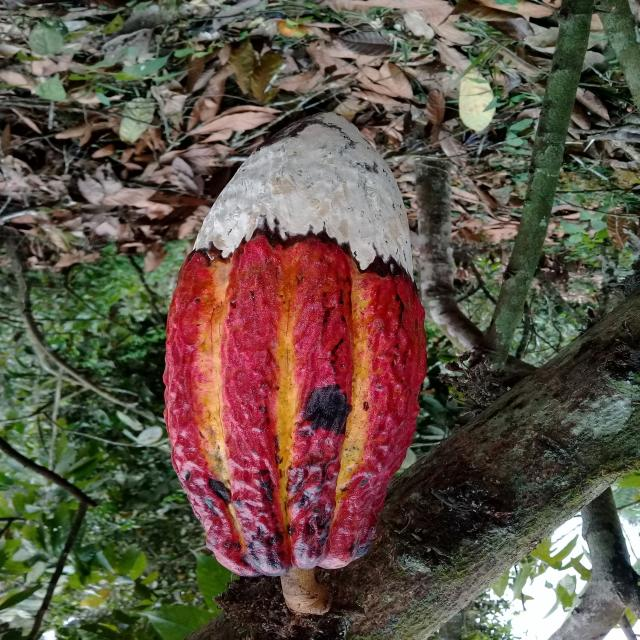Monilia: (158, 110, 431, 577)
